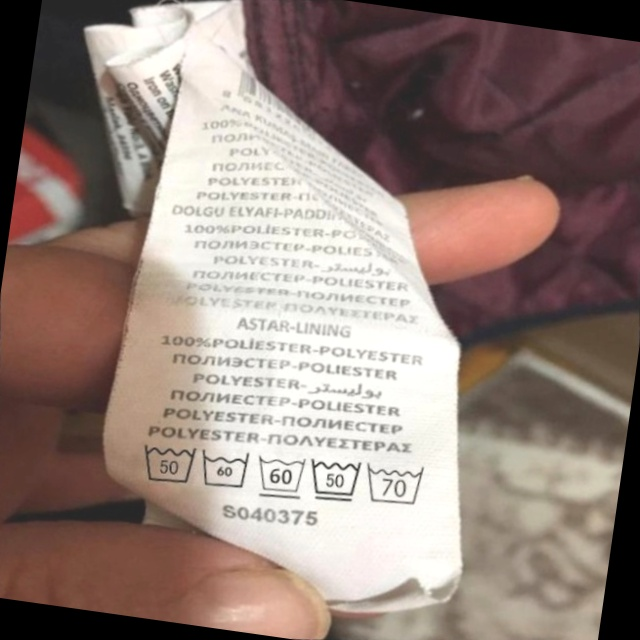50C: (131, 429, 206, 496), (302, 448, 371, 512)
60C: (250, 444, 316, 506), (193, 439, 260, 500)
70C: (360, 453, 436, 515)
